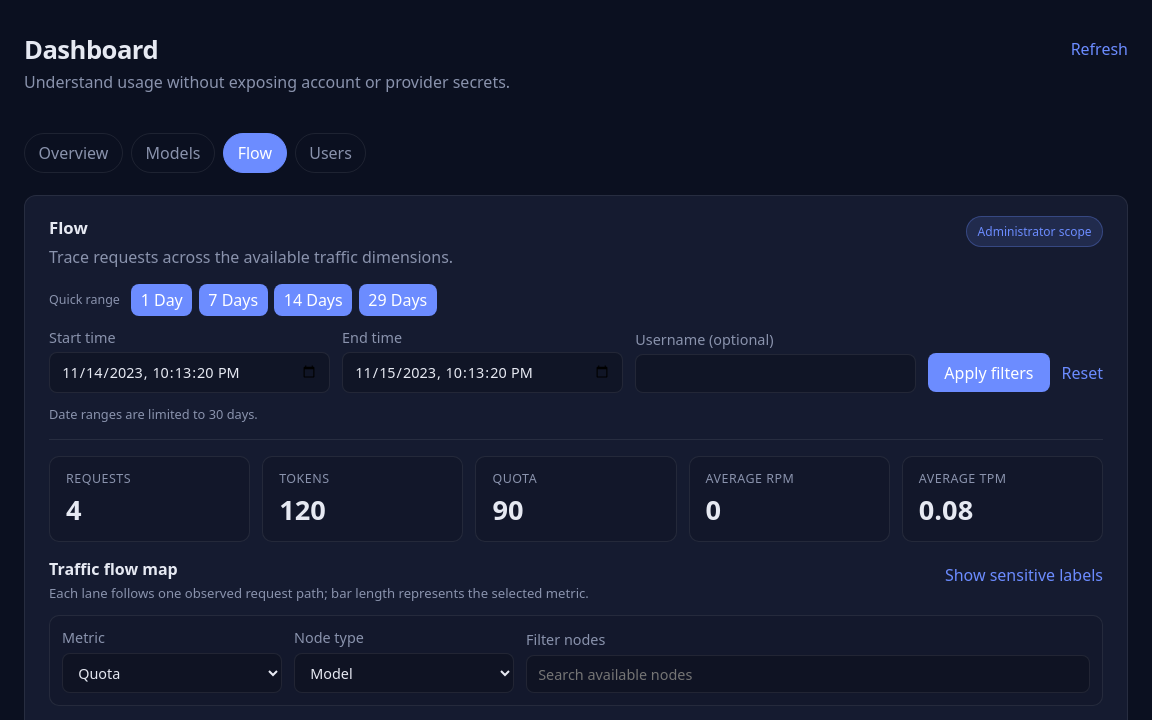
Test: DashboardView › renders a dependency-free flow path and role-scoped totals
Click the button "Show sensitive labels": (1024, 575) [945,558,1103,592]
(page scrolled)
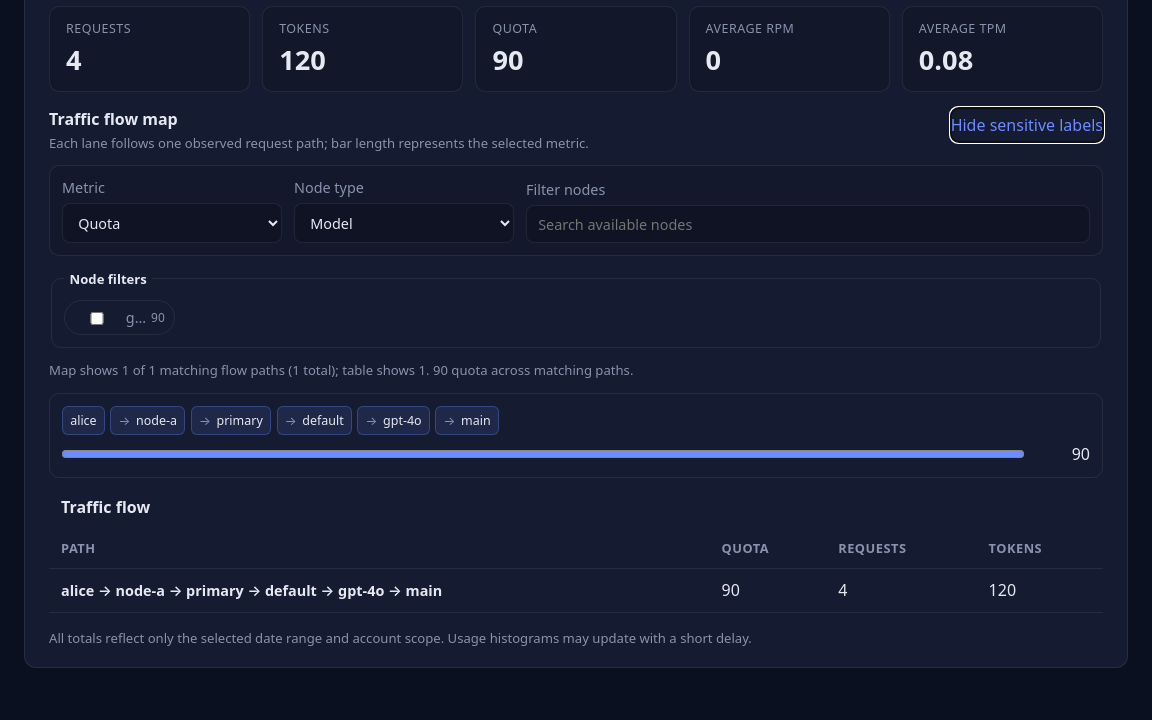
Check: the column heading "alice → node-a → primary → default → gpt-4o → main" is shown, box [49,568,710,612]
